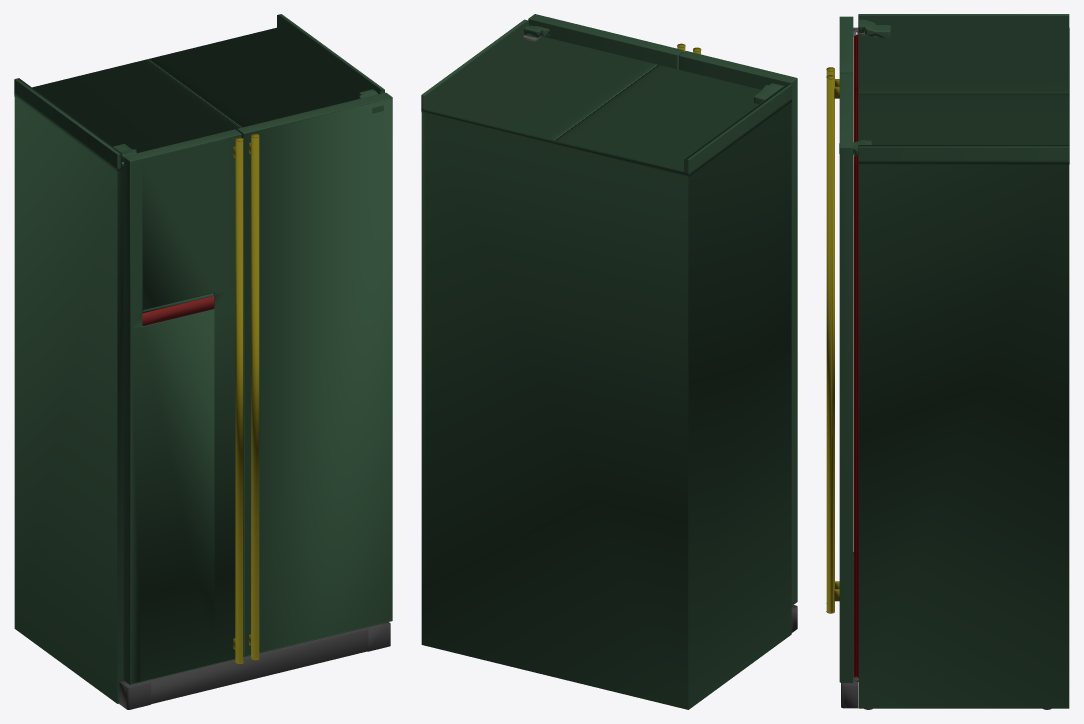
3 views of the same model, side by side, from view 1: azimuth 30°, elevation 25°; view 2: azimuth 150°, elevation 25°; view 3: azimuth 270°, elevation 25° (orthographic). The views are drawn at different scales.
Parts seen in each view (by area): view 1: Box019, Box022, Box020, Box039, Cylinder09, Cylinder10, $$$DUMMY.Group01; view 2: Box019, Box020, Box022; view 3: Box019, Box022, Cylinder10, Box021, Box020, Box039, Box027.
Boxes of the visible parts, bbox=[...] form: Box019: bbox=[14, 14, 384, 703]; Box022: bbox=[237, 92, 392, 656]; Box020: bbox=[123, 129, 241, 684]; Box039: bbox=[119, 622, 390, 709]; Cylinder09: bbox=[235, 137, 243, 664]; Cylinder10: bbox=[251, 133, 259, 660]; $$$DUMMY.Group01: bbox=[142, 296, 214, 325]; Box019: bbox=[421, 19, 791, 709]; Box020: bbox=[679, 51, 797, 605]; Box022: bbox=[528, 14, 683, 69]; Box019: bbox=[858, 14, 1069, 708]; Box022: bbox=[839, 73, 853, 682]; Cylinder10: bbox=[826, 75, 834, 613]; Box021: bbox=[853, 91, 858, 677]; Box020: bbox=[839, 16, 853, 73]; Box039: bbox=[841, 562, 858, 708]; Box027: bbox=[858, 19, 890, 37].
Bounding box in the file's own units: 1.44 × 2.85 × 1.11.
